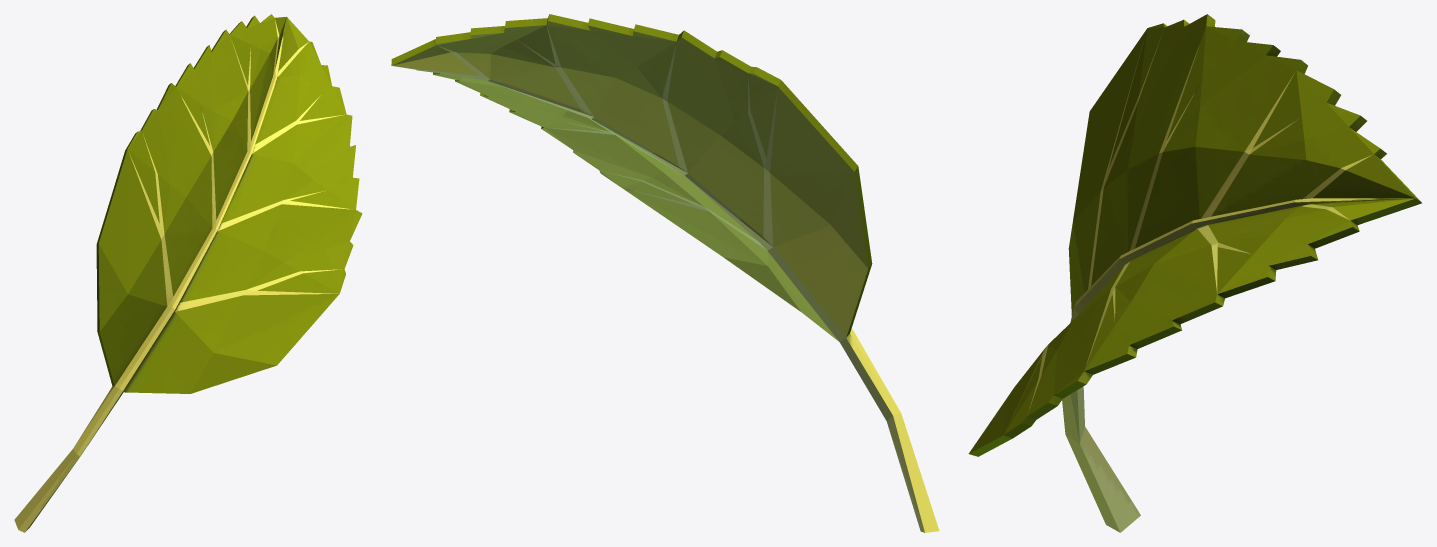
Rendered from leaf_4_FetA14dDV.glb.
3 renders of one model, left to right at view 1: azimuth 30°, elevation 25°; view 2: azimuth 150°, elevation 25°; view 3: azimuth 270°, elevation 25°, orthographic. The views are drawn at different scales.
Visible parts, largest first — view 1: leaf; view 2: leaf; view 3: leaf.
Part boxes in pixels (x1,y1,x2,y2): leaf: (14, 14, 362, 532); leaf: (391, 14, 939, 532); leaf: (968, 14, 1421, 532).
Size of the model in its own units: 1.32 by 1.37 by 0.8257.
Materials: 1 (1 with a texture image).
